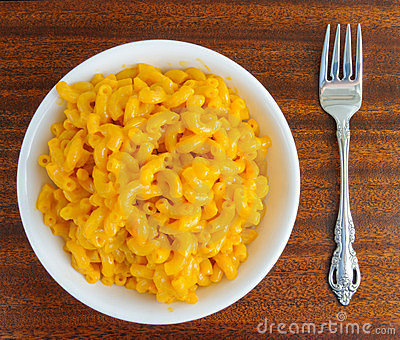macncheese: (39, 62, 269, 306)
